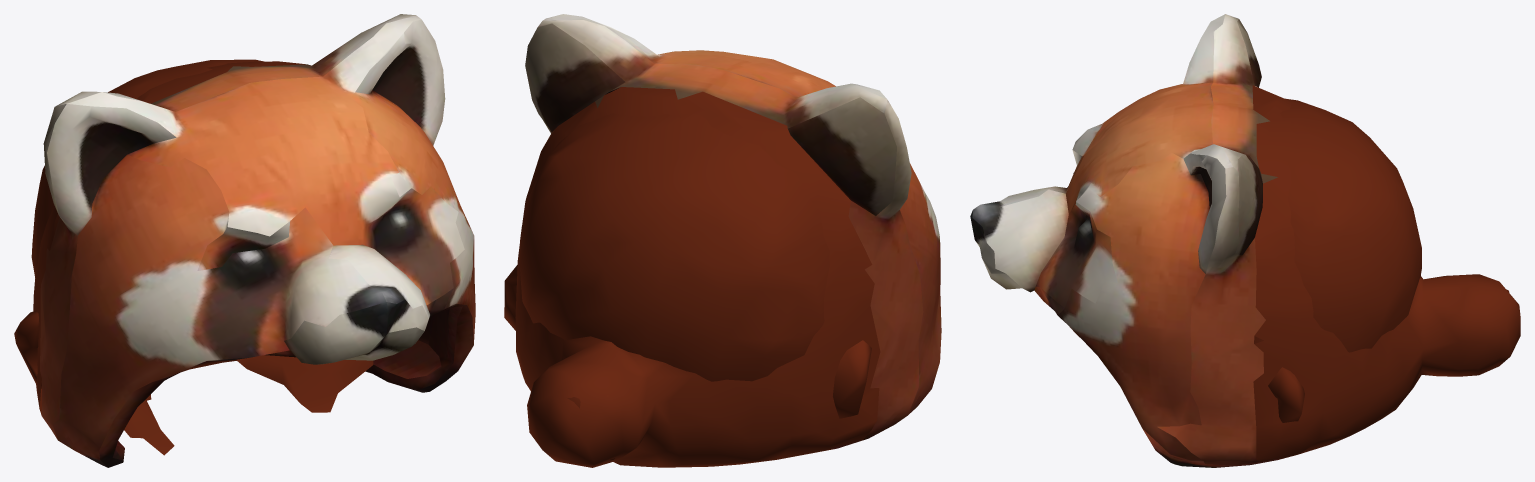
File: red-panda.glb
The picture shows the model from 3 angles, left to right: view 1: azimuth 30°, elevation 25°; view 2: azimuth 150°, elevation 25°; view 3: azimuth 270°, elevation 25°; orthographic projection. The views are drawn at different scales.
Visible parts, largest first — view 1: geometry_0, HoodAnatomicalLining; view 2: geometry_0, HoodAnatomicalLining; view 3: geometry_0, HoodAnatomicalLining.
Part boxes in pixels (x1,y1,x2,y2): geometry_0: [33, 14, 475, 467]; HoodAnatomicalLining: [14, 59, 373, 455]; geometry_0: [515, 14, 941, 467]; HoodAnatomicalLining: [504, 113, 871, 418]; geometry_0: [970, 14, 1520, 467]; HoodAnatomicalLining: [1254, 98, 1421, 422].
Bounding box in the file's own units: 0.4898 × 0.4423 × 0.6706.
Materials: 2 (1 with a texture image).
